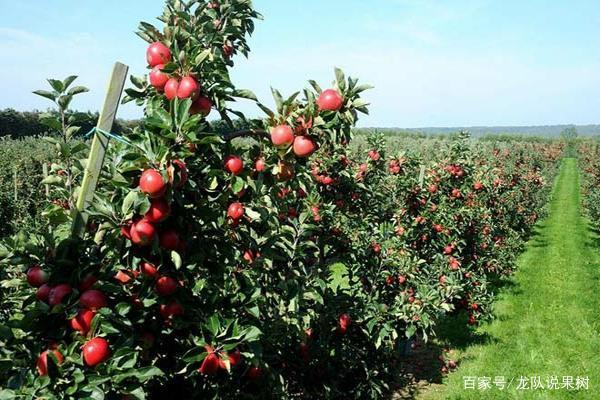apple: (138, 168, 164, 195), (83, 337, 109, 363), (78, 288, 107, 310), (146, 43, 170, 65), (270, 124, 294, 145), (320, 89, 341, 110), (294, 136, 315, 157), (155, 275, 177, 295)
